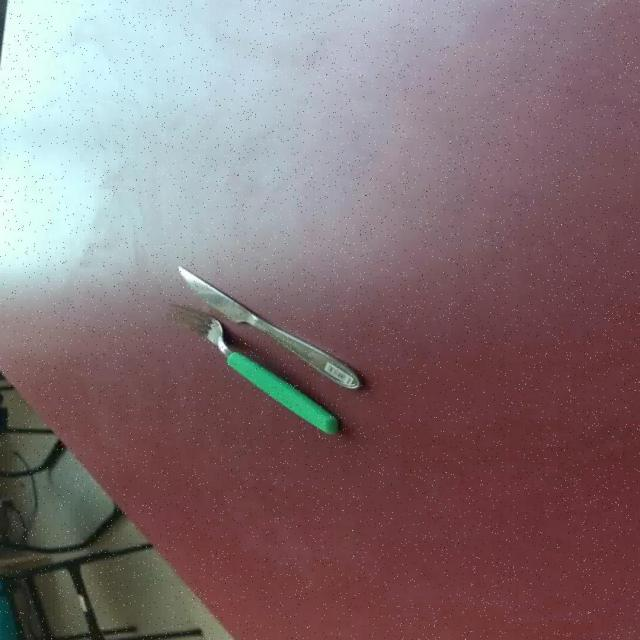Fork: (164, 301, 340, 435)
Knife: (164, 301, 340, 435), (175, 264, 361, 390)
